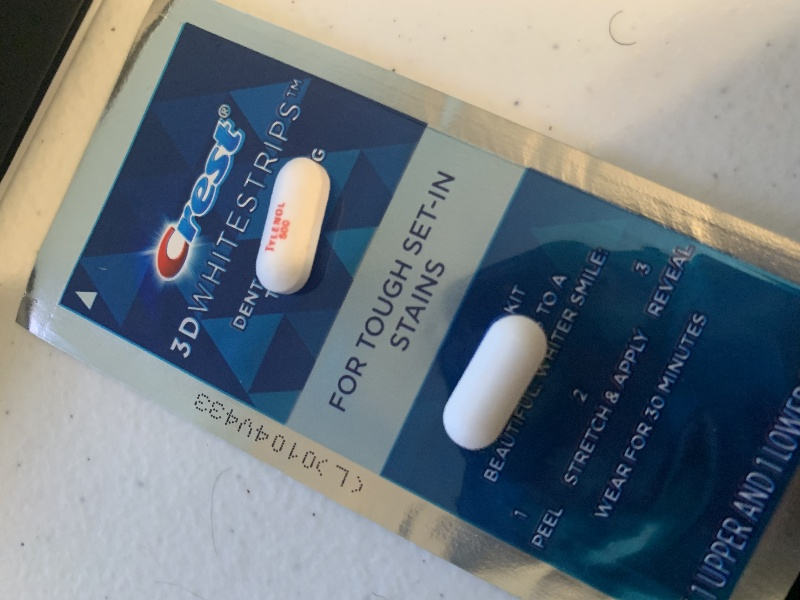Tylenol: (440, 309, 552, 454), (251, 153, 339, 300)
